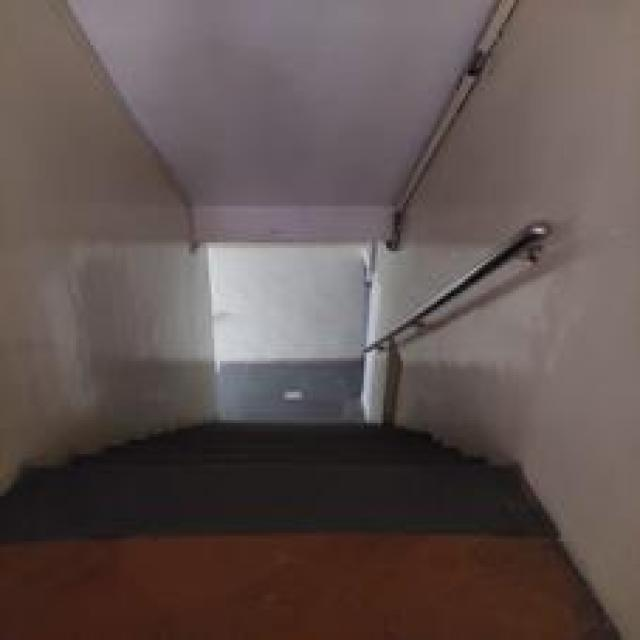stairs: (0, 417, 629, 637)
